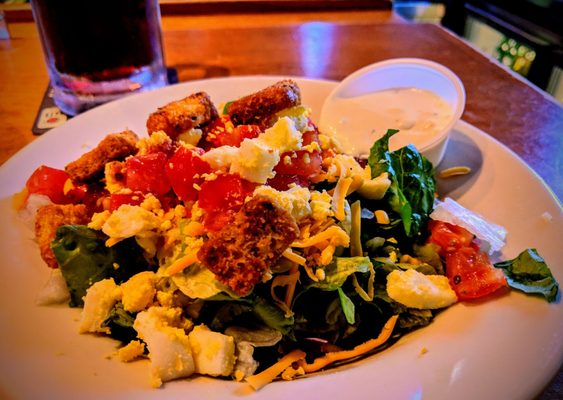pizza: (27, 0, 172, 118)
sushi: (315, 57, 467, 169)
